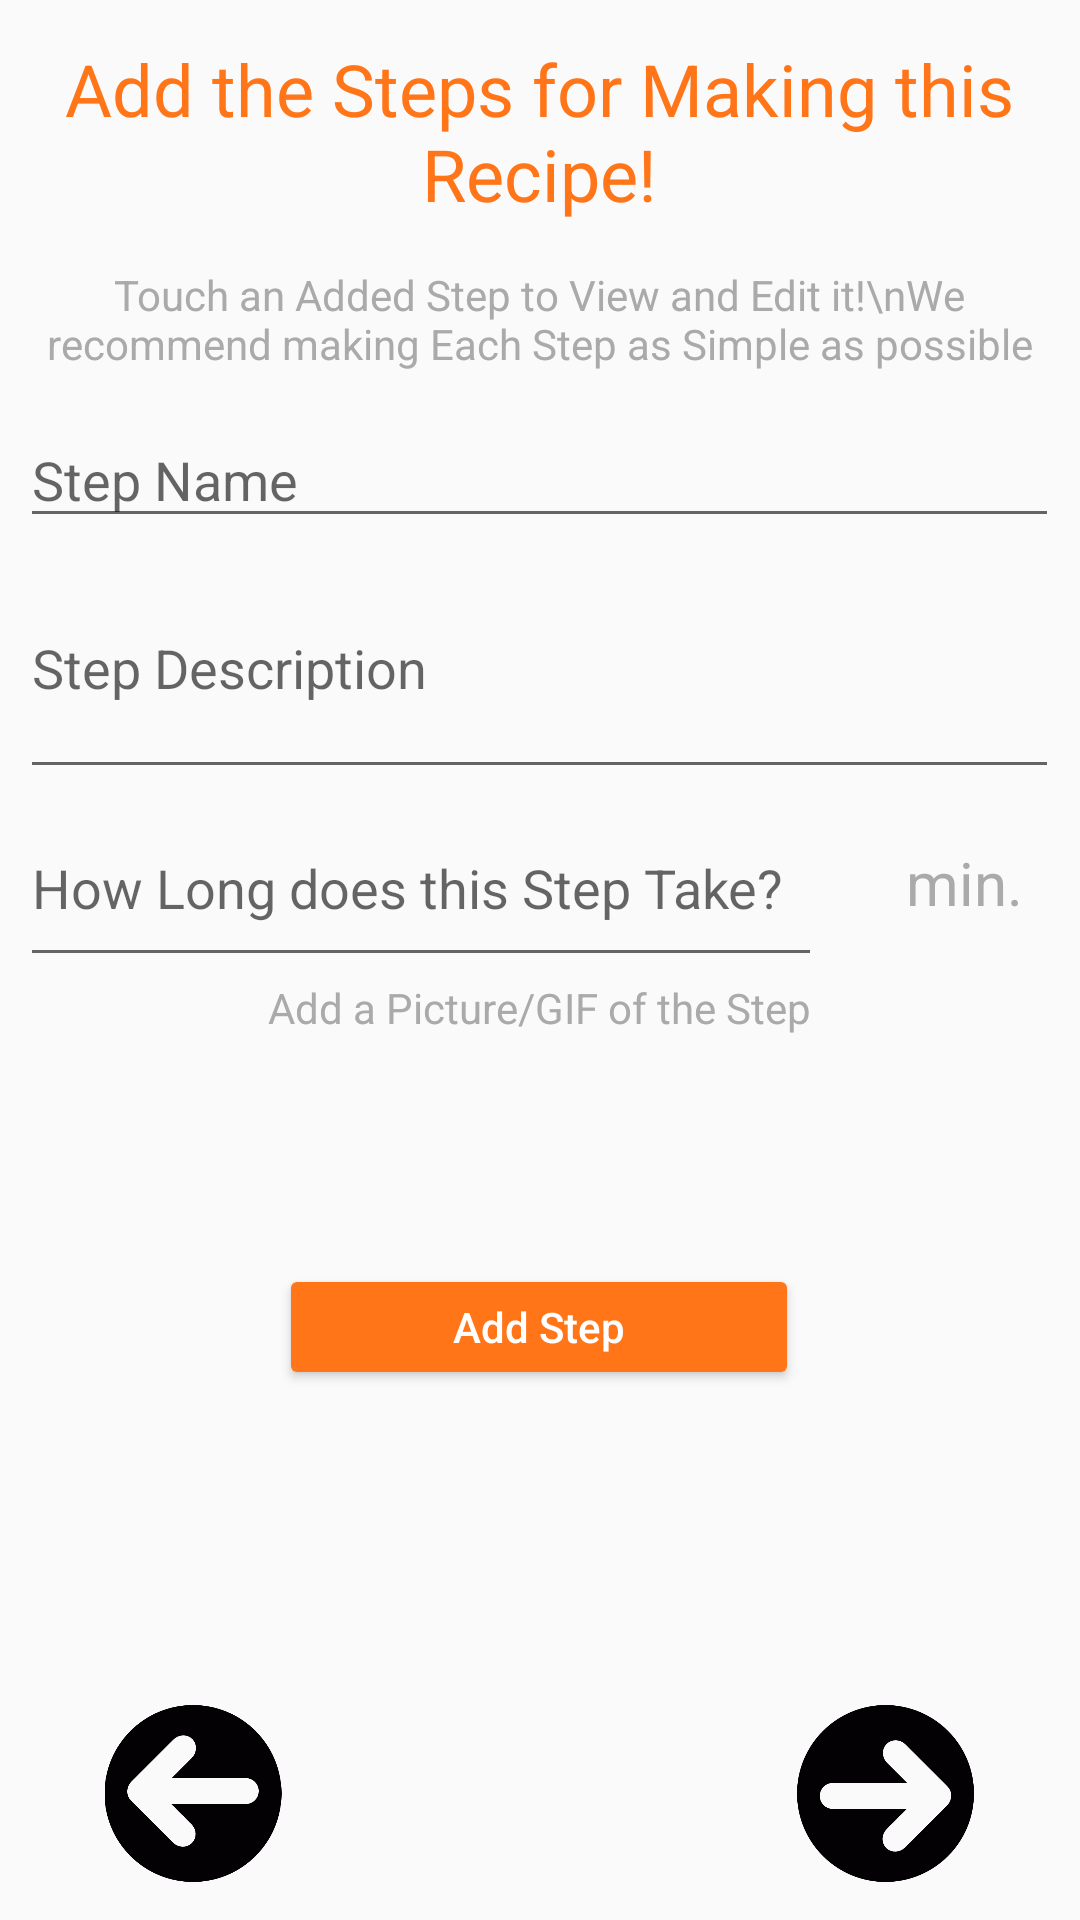

Screen size 1080 × 1920. Icon name, then its box in pixels as (x1, y1, x2, y2):
left arrow: (105, 1705, 282, 1882)
right arrow: (797, 1705, 974, 1882)
